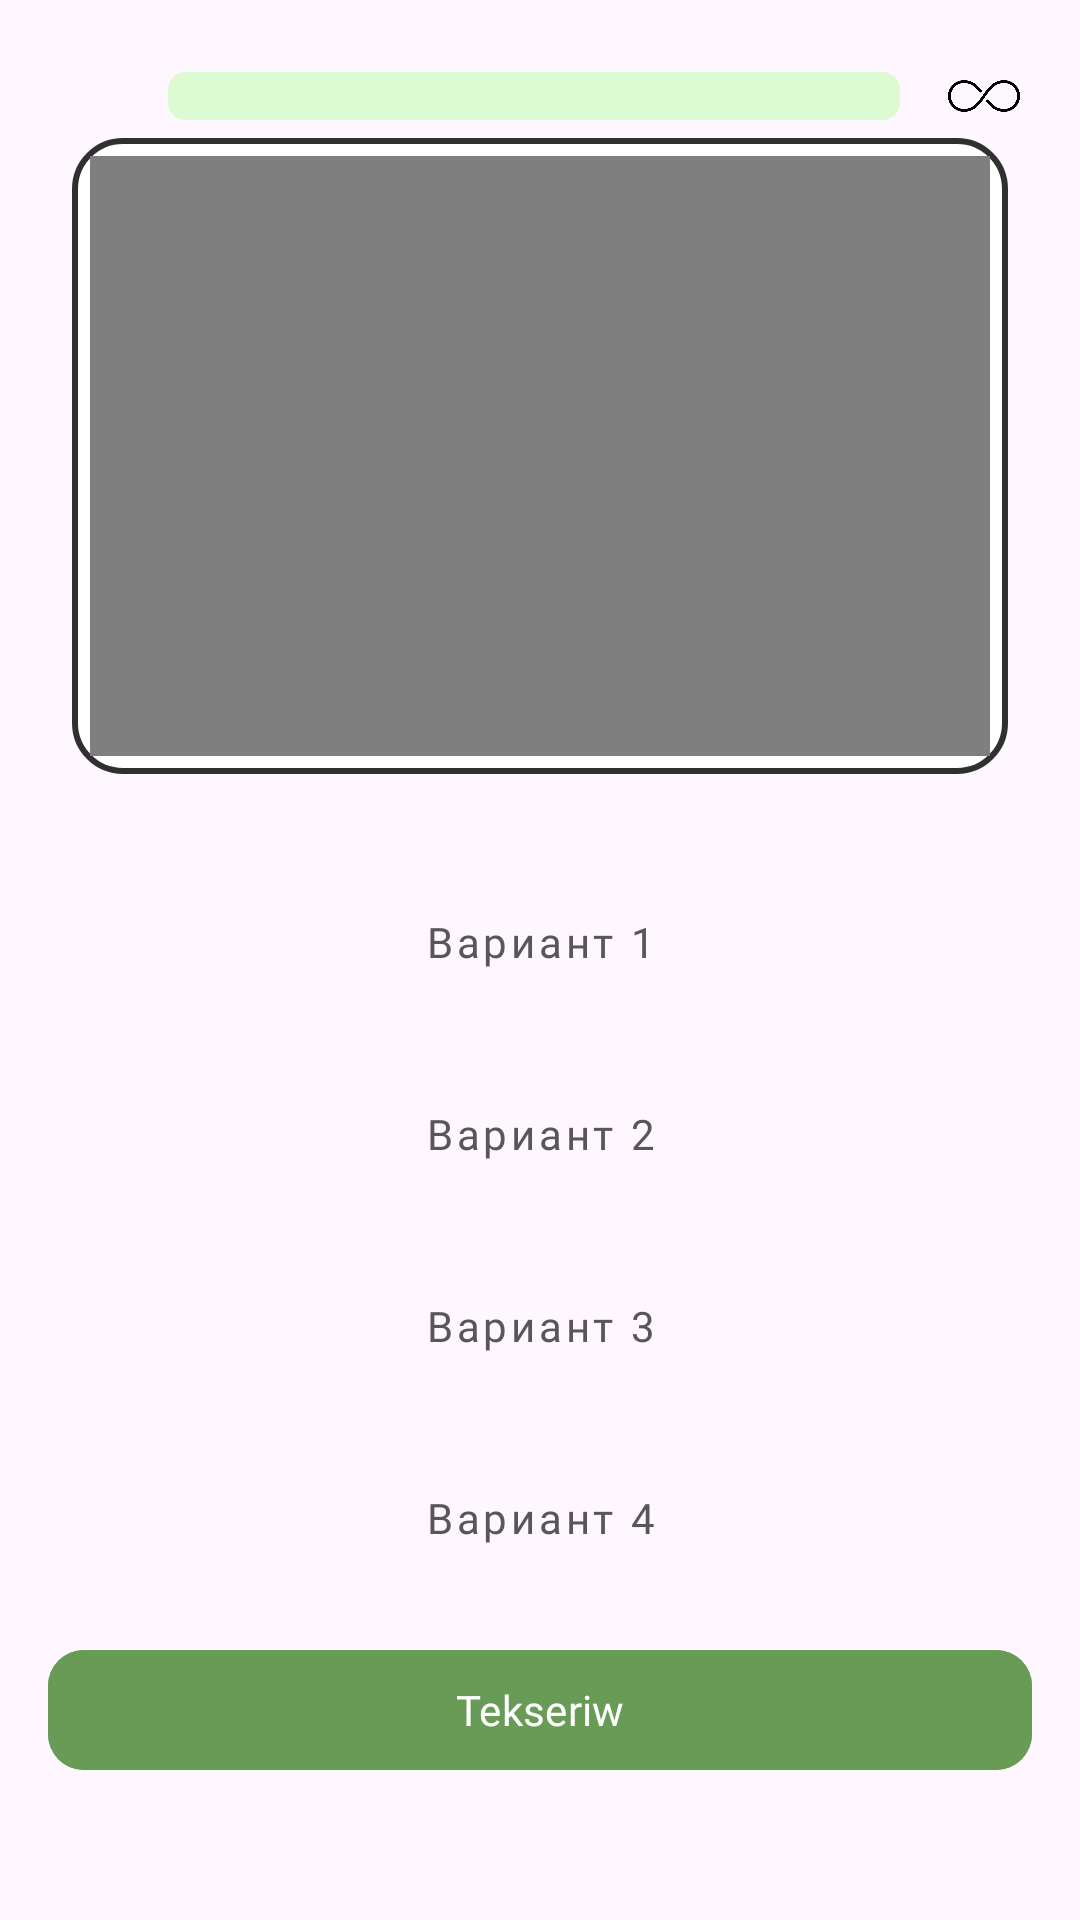

Screen size 1080w x 1920h. Icon name, then its center in pixels as point (x, y):
infinity: point (984, 96)
